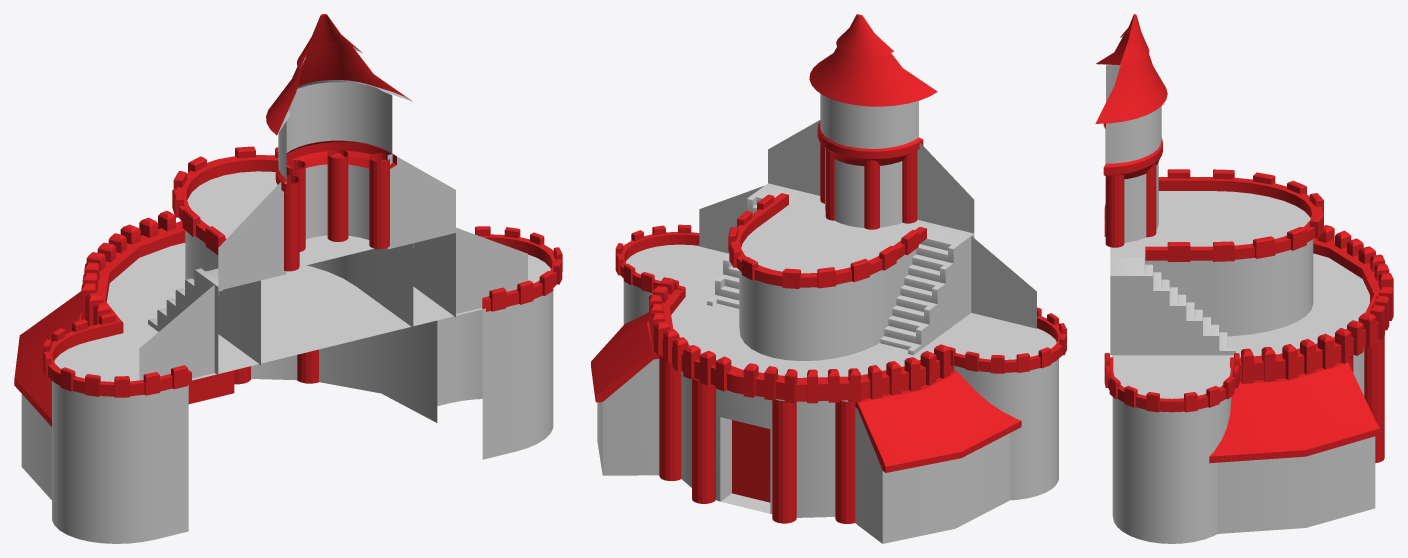
File: castle.fbx
3 renders of one model, left to right at view 1: azimuth 30°, elevation 25°; view 2: azimuth 150°, elevation 25°; view 3: azimuth 270°, elevation 25°, orthographic. The views are drawn at different scales.
Visible parts, largest first — view 1: Cylinder.007, Cylinder.001; view 2: Cylinder.007, Cylinder.001; view 3: Cylinder.007, Cylinder.001.
Boxes of the visible parts, x1,y1,x2,y2 form: Cylinder.007: (21, 47, 553, 543); Cylinder.001: (14, 14, 562, 426); Cylinder.007: (597, 93, 1058, 543); Cylinder.001: (591, 14, 1066, 523); Cylinder.007: (1103, 35, 1375, 543); Cylinder.001: (1095, 14, 1393, 463).
Size of the model in its own units: 3.32 by 3 by 1.92.
